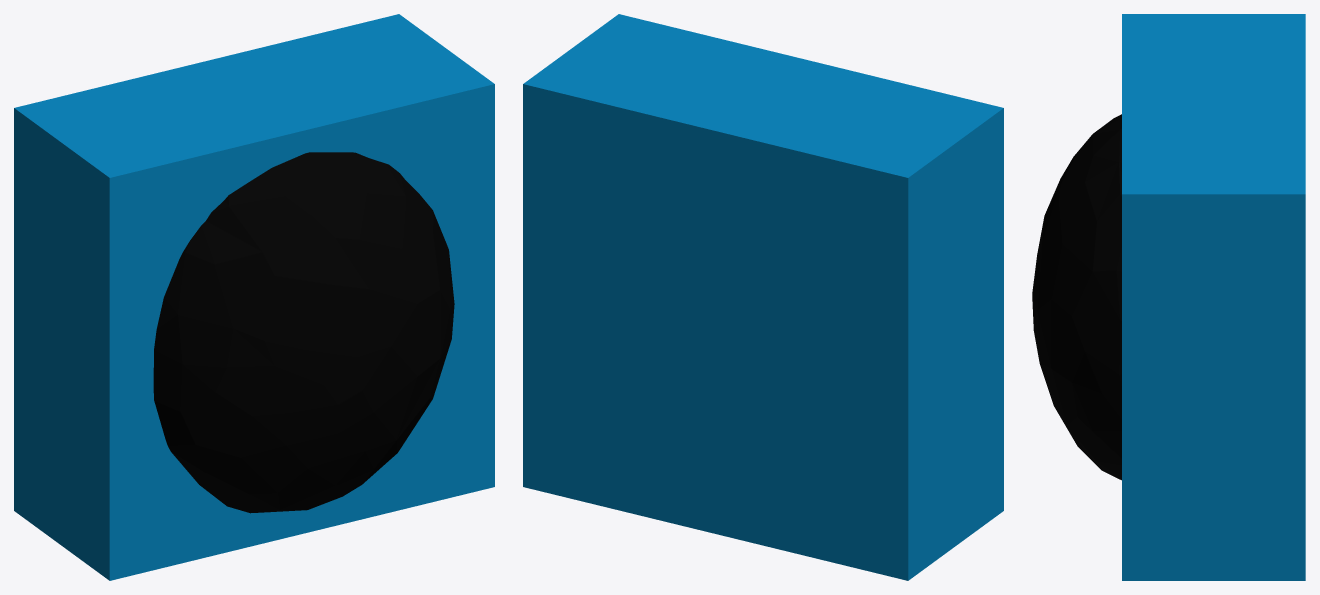
Rendered from bout.obj.
The picture shows the model from 3 angles, left to right: view 1: azimuth 30°, elevation 25°; view 2: azimuth 150°, elevation 25°; view 3: azimuth 270°, elevation 25°; orthographic projection. The views are drawn at different scales.
Visible parts, largest first — view 1: Object.1, Object.2; view 2: Object.1; view 3: Object.1, Object.2.
Boxes of the visible parts, x1,y1,x2,y2 form: Object.1: [14, 14, 494, 580]; Object.2: [153, 152, 454, 513]; Object.1: [523, 14, 1003, 580]; Object.1: [1122, 14, 1305, 580]; Object.2: [1032, 114, 1121, 480].
Bounding box in the file's own units: 69.69 × 69.69 × 44.7.
